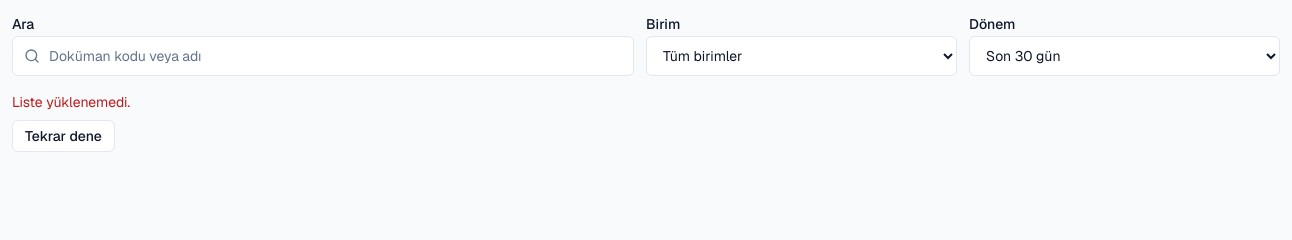
Test: PublicationList › reports a failure and lets the user retry
The image size is (1292, 240).
Check: the message shows "Liste yüklenemedi.", box [12,93,130,111]
Click the button "Tekrar dene": (63, 136) [12,120,115,152]
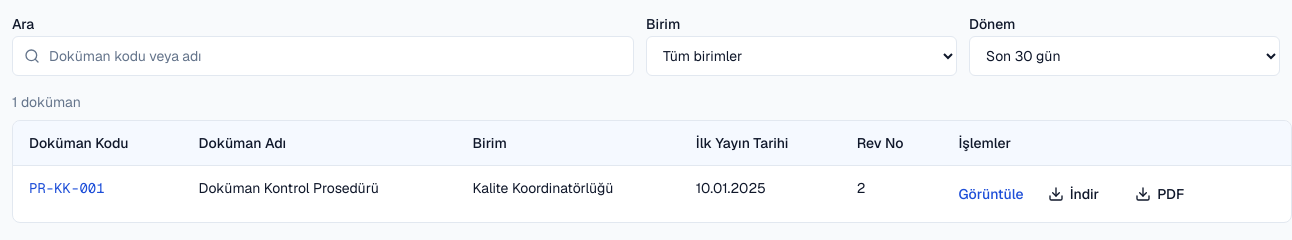
Check: the table named "Doküman listesi" is shown, box [13,121,1291,222]
